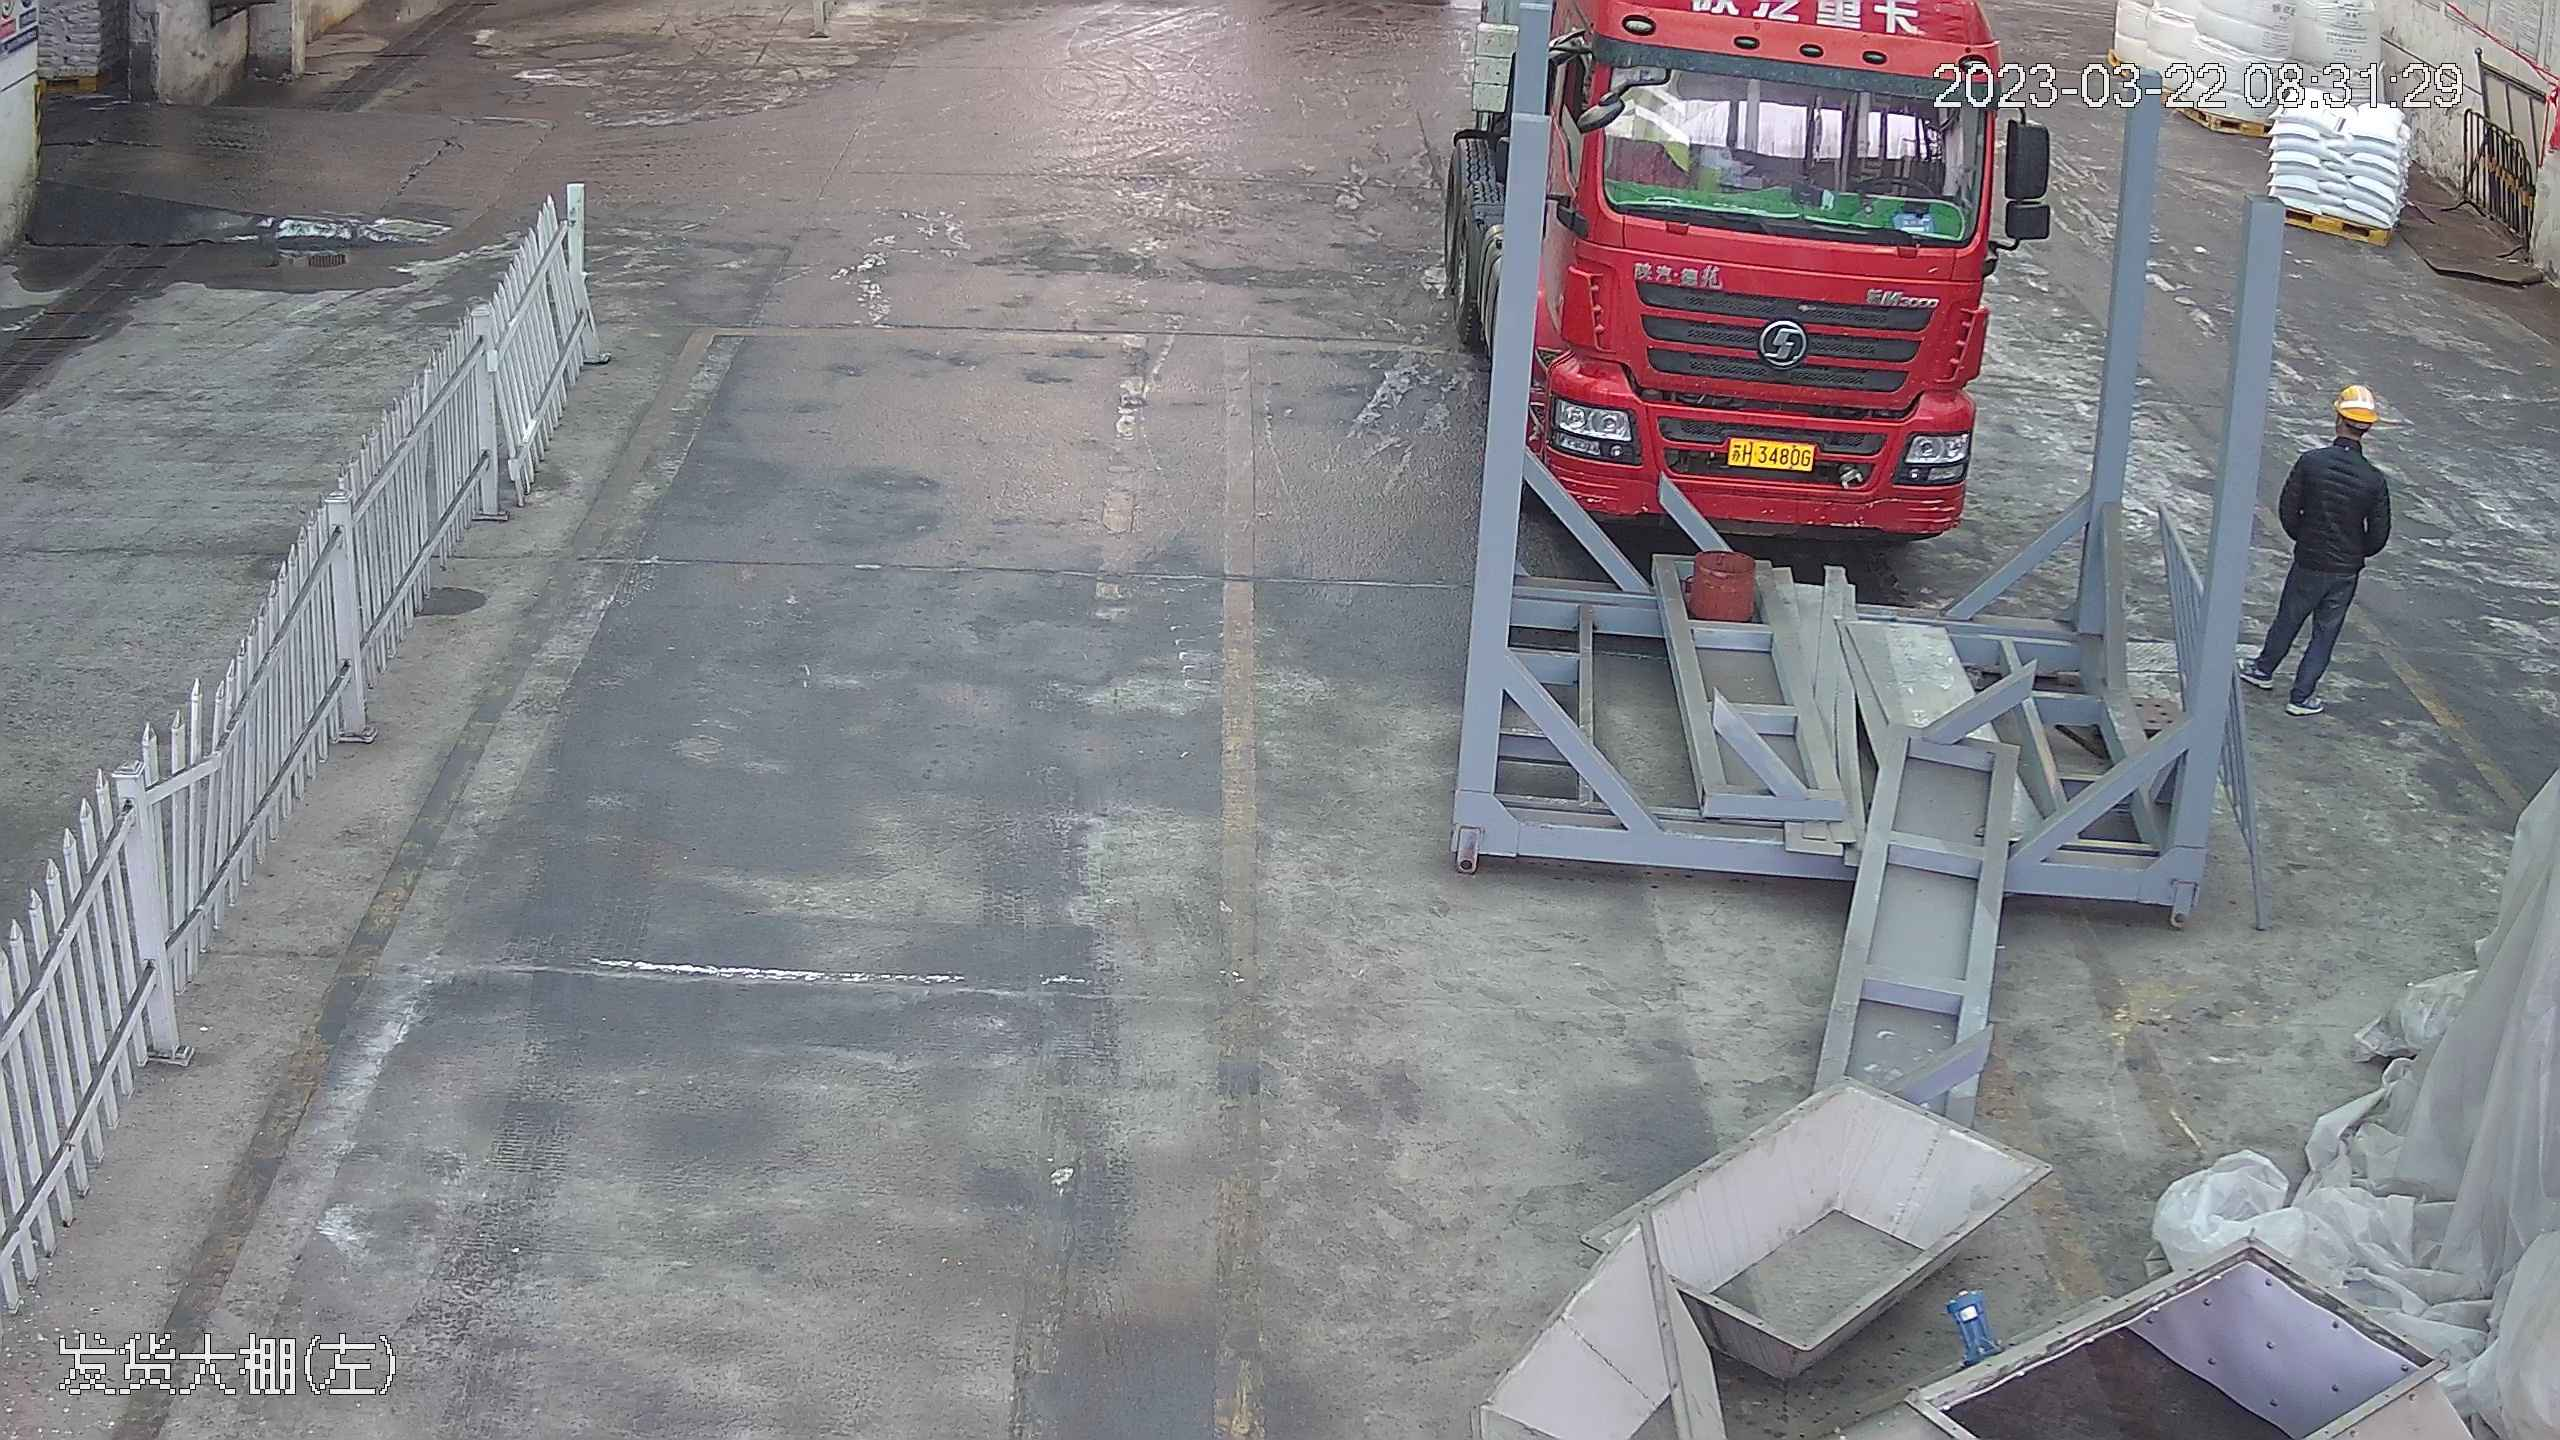head: (2288, 384, 2391, 498)
helmet: (2331, 382, 2380, 422)
people: (2237, 384, 2393, 710)
truck: (1498, 0, 2013, 539)
